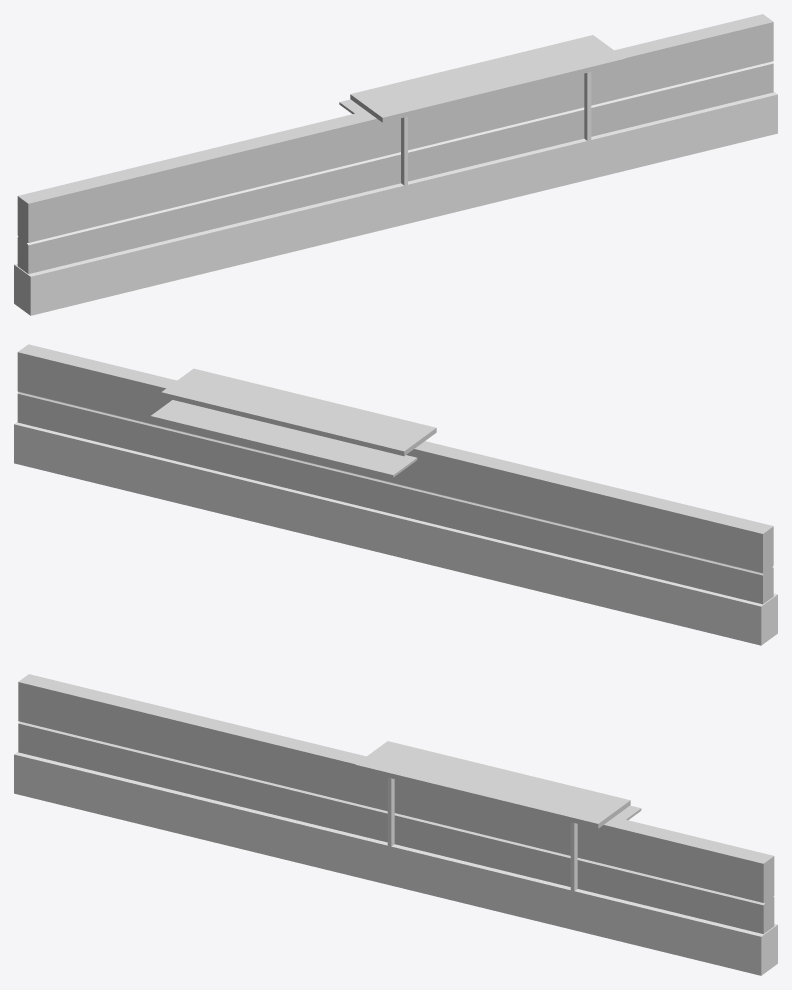
The model's file is Entrance_Reception.fbx.
The picture shows the model from 3 angles, top to bottom: view 1: azimuth 30°, elevation 25°; view 2: azimuth 150°, elevation 25°; view 3: azimuth 330°, elevation 25°; orthographic projection.
Parts seen in each view (by area): view 1: Entrance_Reception; view 2: Entrance_Reception; view 3: Entrance_Reception.
Boxes of the visible parts, x1,y1,x2,y2 form: Entrance_Reception: (14,14,777,315); Entrance_Reception: (14,344,777,645); Entrance_Reception: (14,674,777,975).
Size of the model in its own units: 8 by 1.2 by 0.8.
